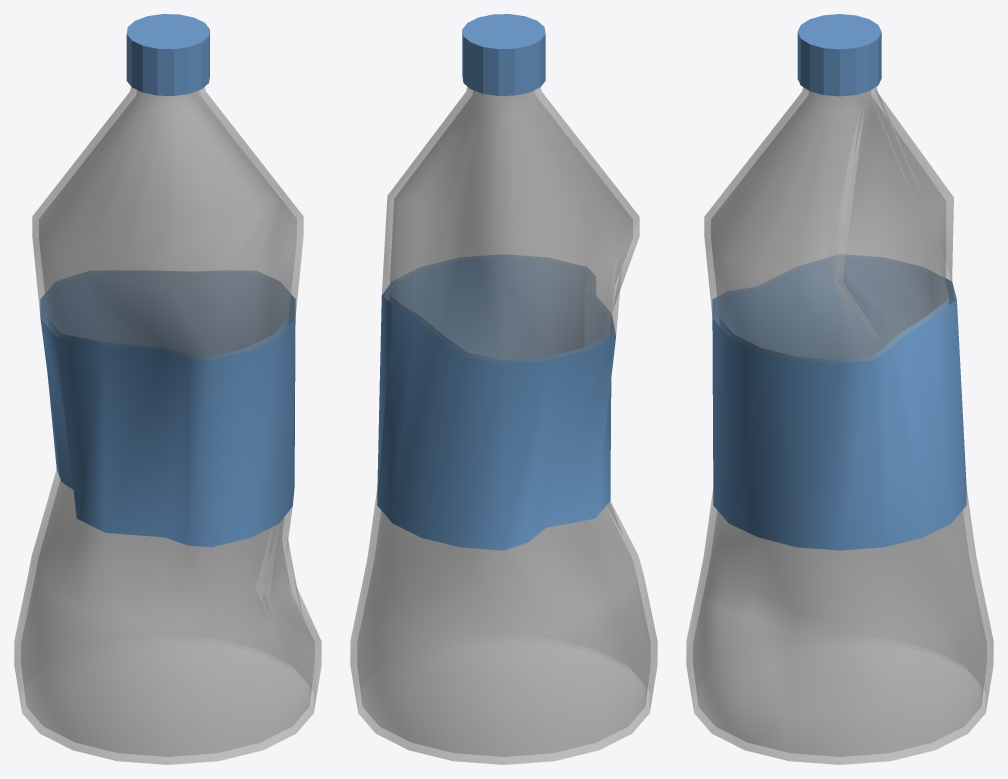
Rendered from Bottle.fbx.
3 views of the same model, side by side, from view 1: azimuth 30°, elevation 25°; view 2: azimuth 150°, elevation 25°; view 3: azimuth 270°, elevation 25° (orthographic).
Parts seen in each view (by area): view 1: Cylinder001; view 2: Cylinder001; view 3: Cylinder001.
Boxes of the visible parts, bbox=[...] form: Cylinder001: bbox=[14, 14, 321, 764]; Cylinder001: bbox=[350, 14, 657, 764]; Cylinder001: bbox=[686, 14, 993, 764].
Bounding box in the file's own units: 63.37 × 154 × 62.41.
